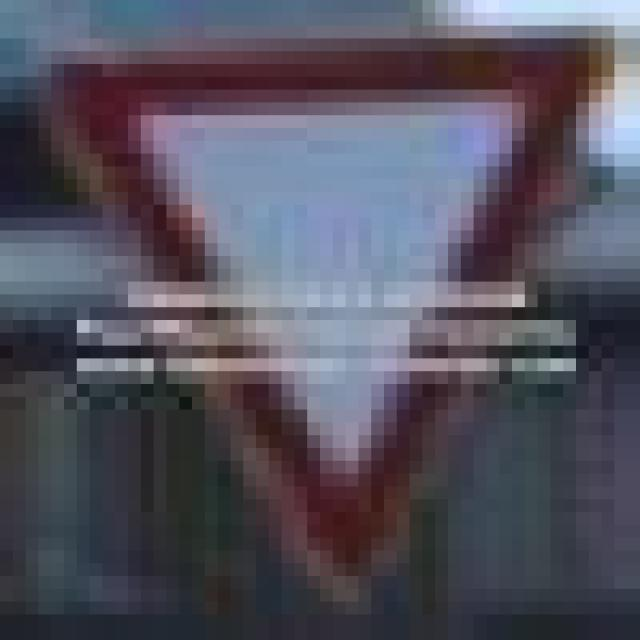gap_in_median: (26, 26, 627, 576)
